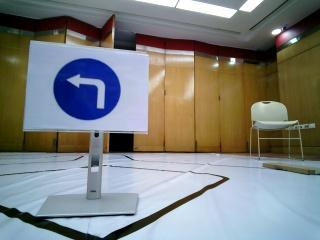left: (30, 47, 144, 131)
